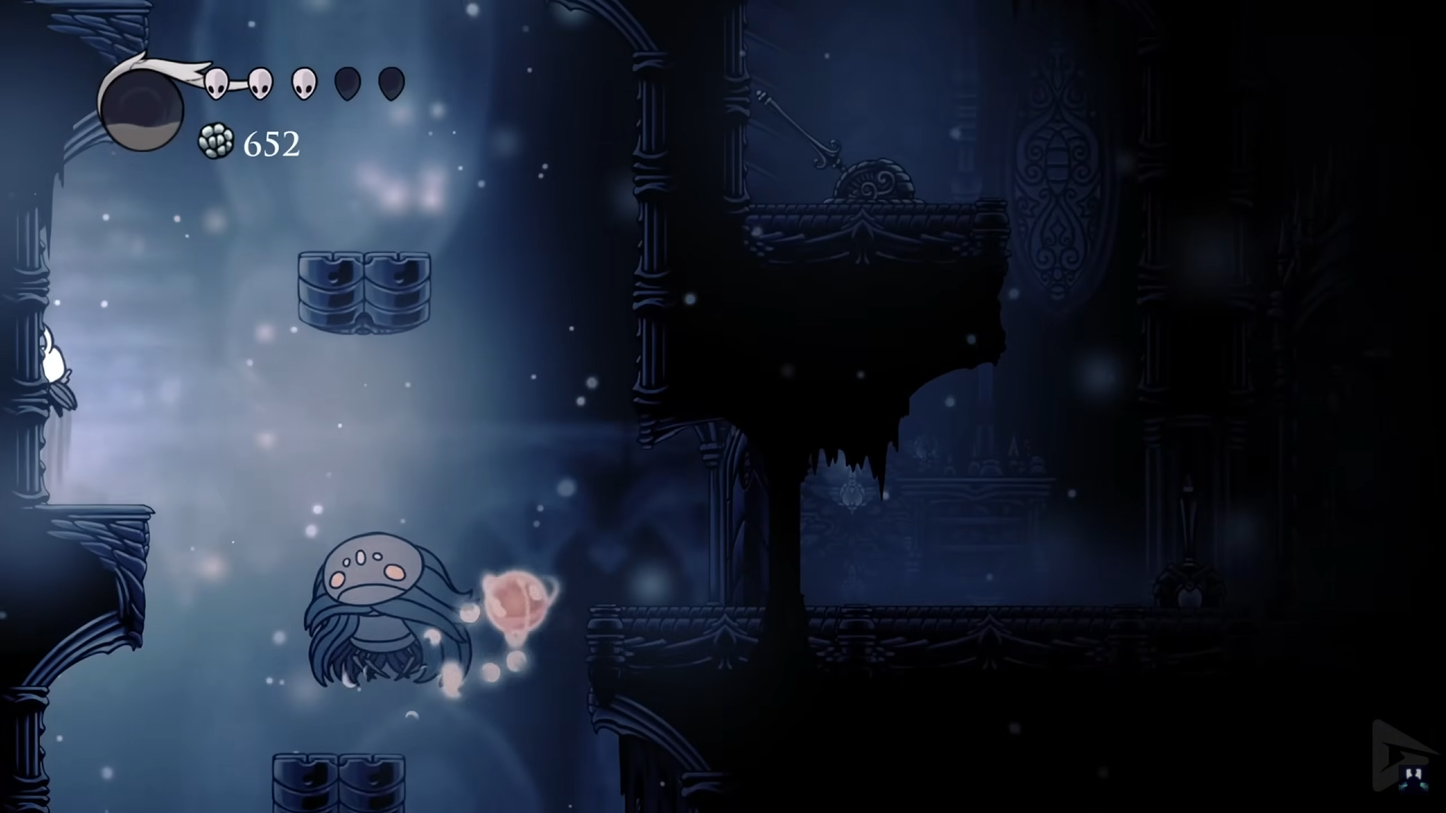HK: (29, 321, 83, 419)
